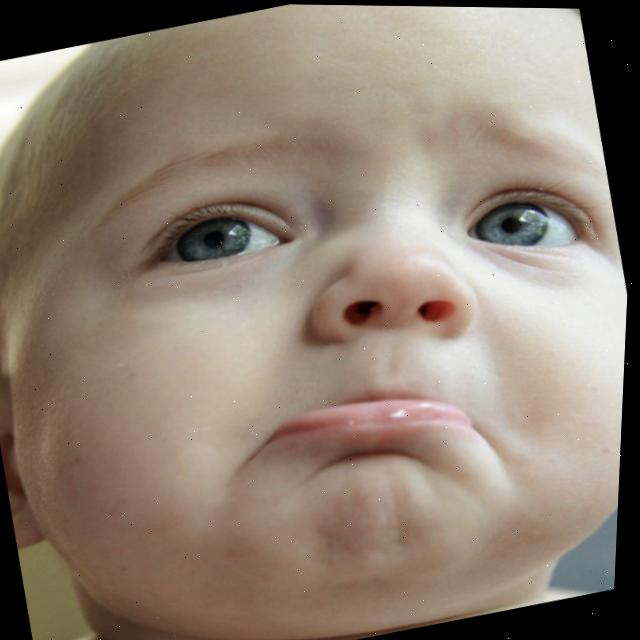sad: (4, 20, 639, 607)
